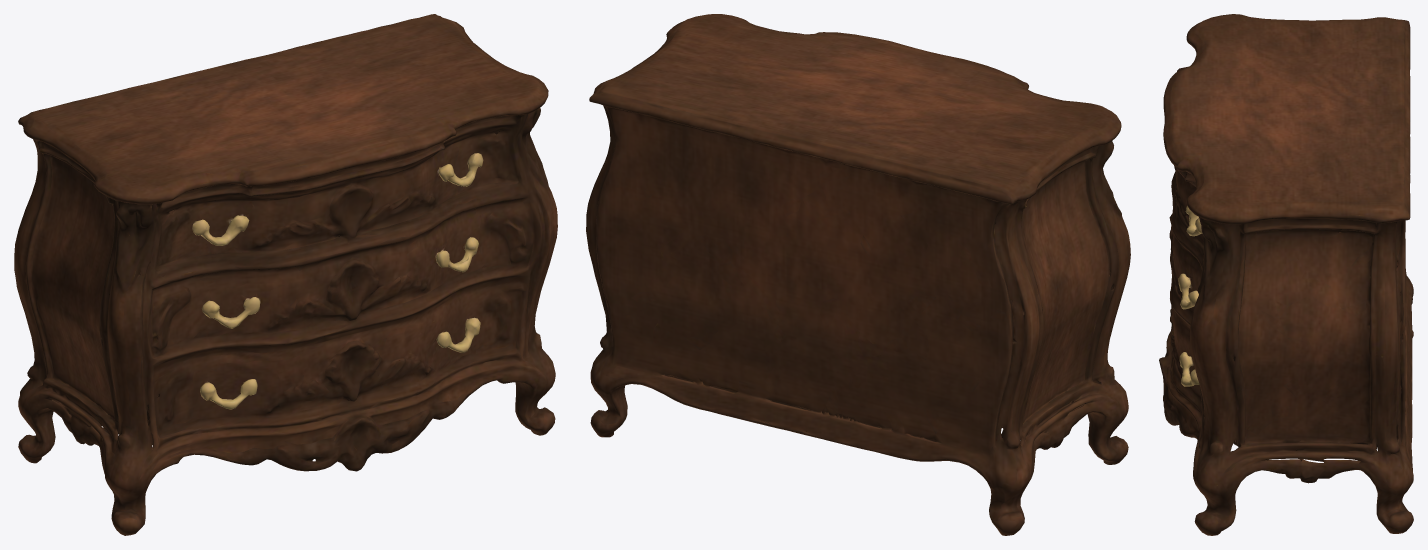
Rendered from generation_commode_0.glb.
The picture shows the model from 3 angles, left to right: view 1: azimuth 30°, elevation 25°; view 2: azimuth 150°, elevation 25°; view 3: azimuth 270°, elevation 25°; orthographic projection. The views are drawn at different scales.
Parts seen in each view (by area): view 1: geometry_0; view 2: geometry_0; view 3: geometry_0.
Part boxes in pixels (x1,y1,x2,y2): geometry_0: (14,14,557,535); geometry_0: (586,14,1130,535); geometry_0: (1159,14,1413,535).
Bounding box in the file's own units: 1 × 0.7416 × 0.5244.
1 material, 1 textured.
